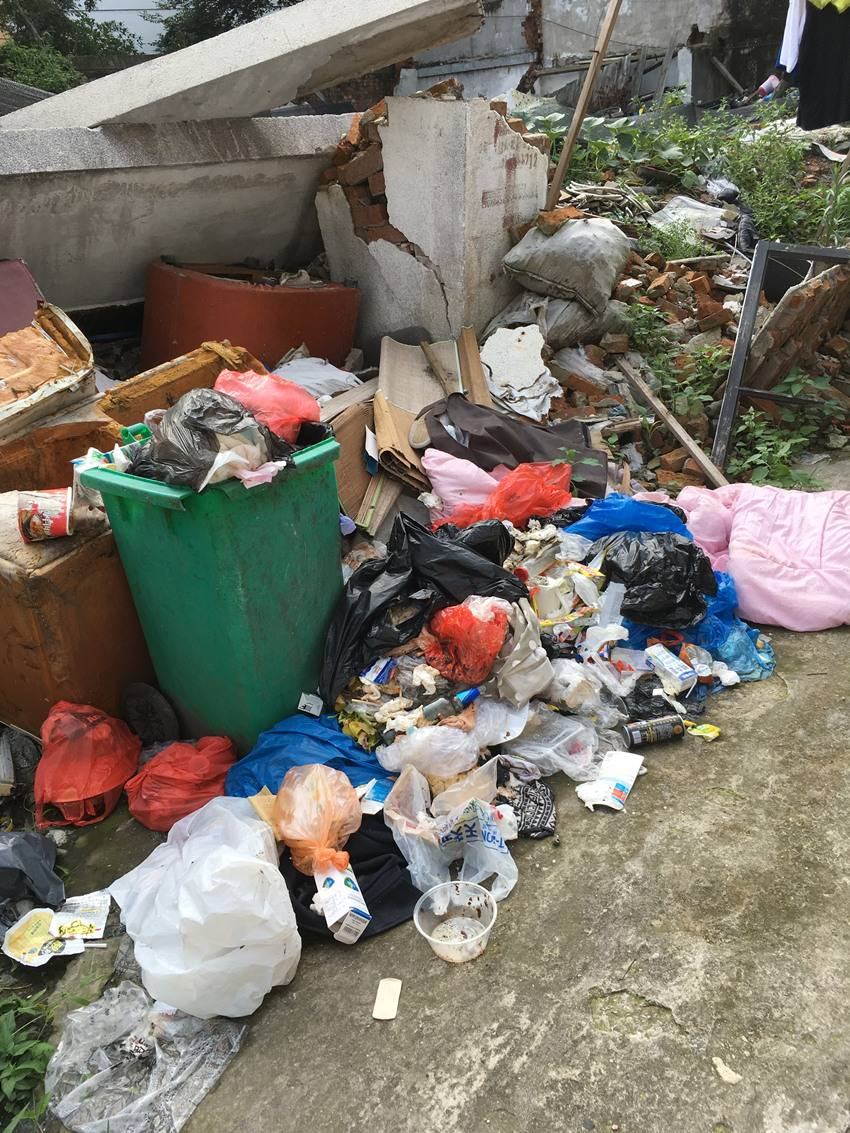fall: (544, 462, 850, 671)
